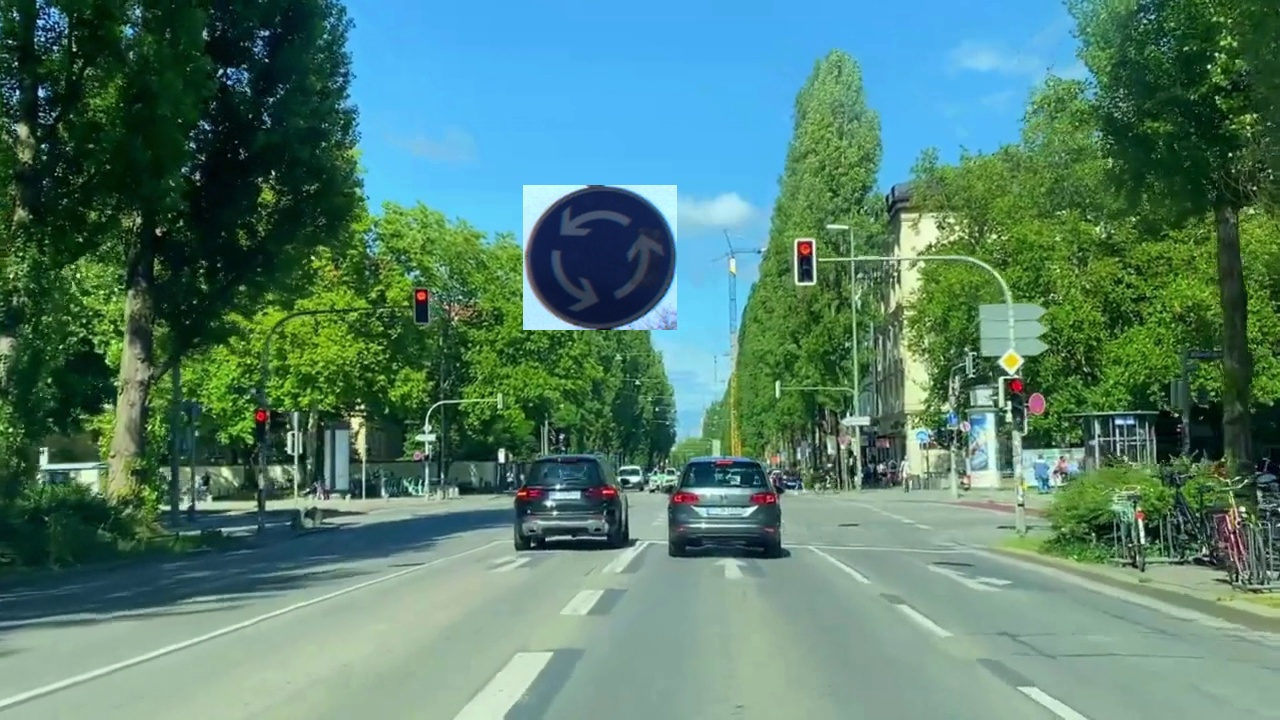Roundabout: (523, 185, 677, 330)
